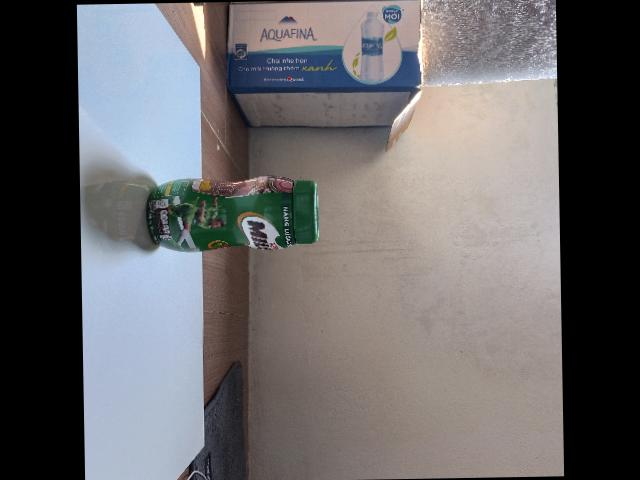milo: (145, 175, 318, 252)
